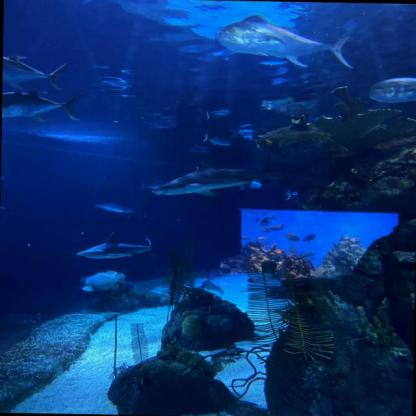fish: (216, 14, 354, 70), (1, 89, 86, 124), (2, 55, 73, 90), (370, 77, 416, 103), (82, 269, 125, 293), (93, 202, 133, 214), (228, 179, 263, 190), (203, 133, 231, 146), (138, 180, 168, 191), (284, 187, 304, 200), (260, 215, 276, 226), (268, 224, 284, 232), (302, 233, 316, 241), (286, 235, 299, 242), (257, 235, 267, 240), (261, 228, 270, 233), (282, 233, 294, 236), (240, 236, 249, 240), (256, 214, 258, 222)
shark: (154, 151, 318, 201), (77, 231, 153, 260), (199, 280, 225, 295)
stingray: (0, 312, 41, 326)
